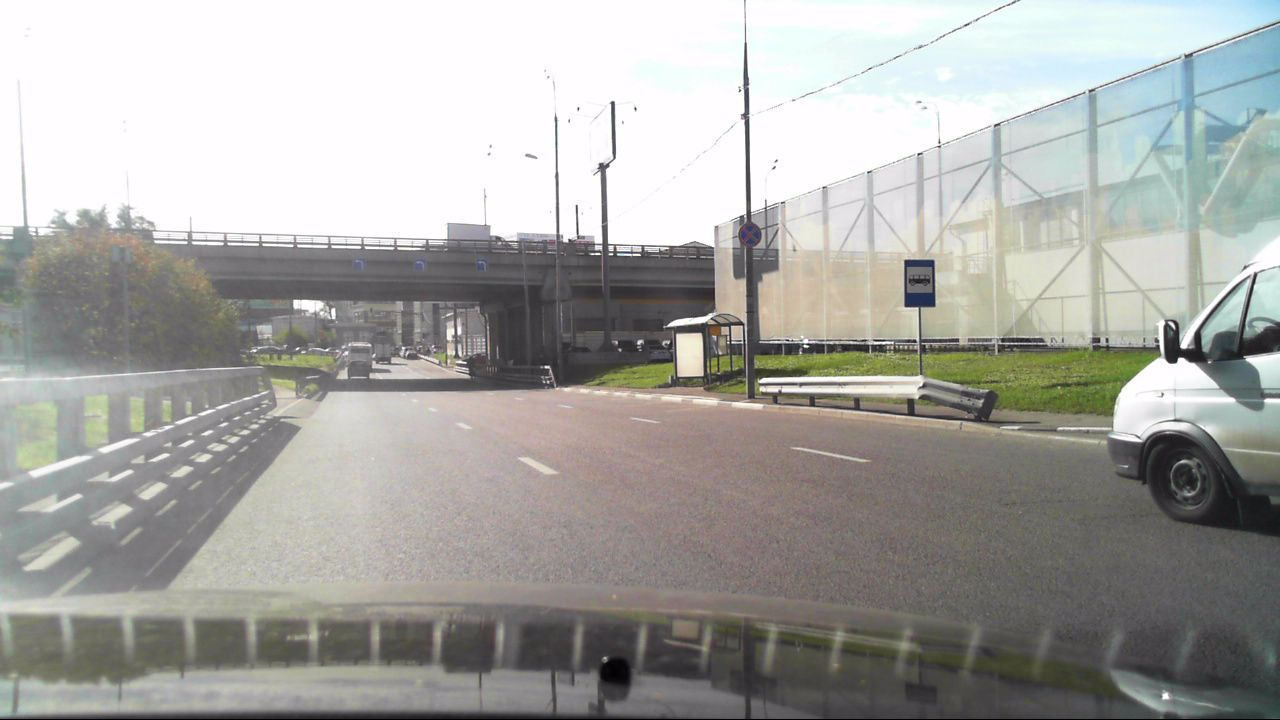No Parking: (735, 221, 762, 247)
